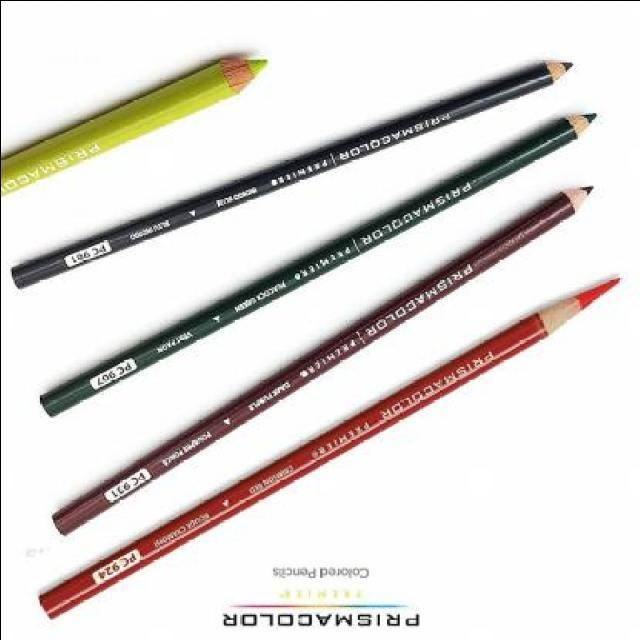pencil: (517, 264, 635, 346), (202, 42, 284, 112), (557, 94, 609, 154), (527, 46, 581, 100), (552, 172, 600, 223)
